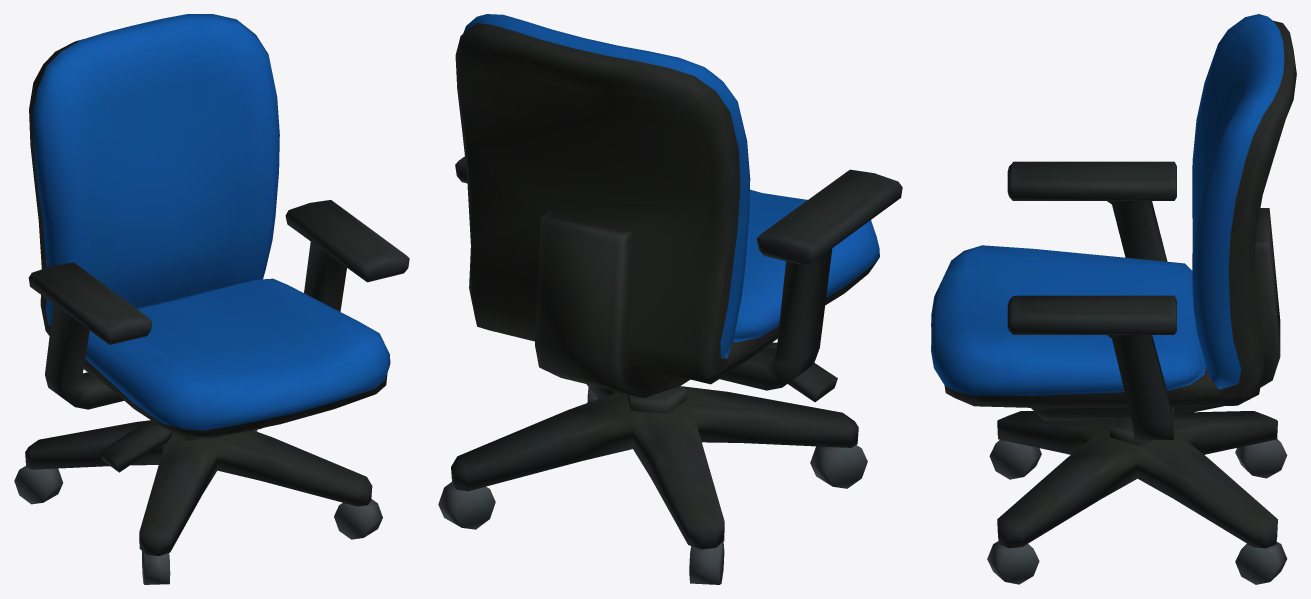
3 renders of one model, left to right at view 1: azimuth 30°, elevation 25°; view 2: azimuth 150°, elevation 25°; view 3: azimuth 270°, elevation 25°, orthographic. The views are drawn at different scales.
Bounding box in the file's own units: 7.95 × 11.02 × 7.71.
Materials: 1 (1 with a texture image).
